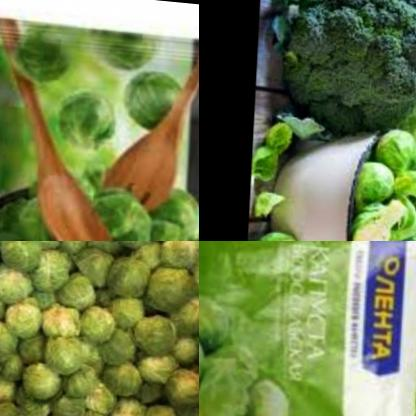broccoli: (282, 0, 416, 138)
brus capusta: (0, 241, 199, 416), (199, 241, 310, 416), (0, 171, 199, 241), (350, 126, 416, 241), (38, 72, 125, 148), (119, 38, 194, 126), (253, 110, 298, 221), (15, 21, 71, 82), (256, 222, 305, 241)
